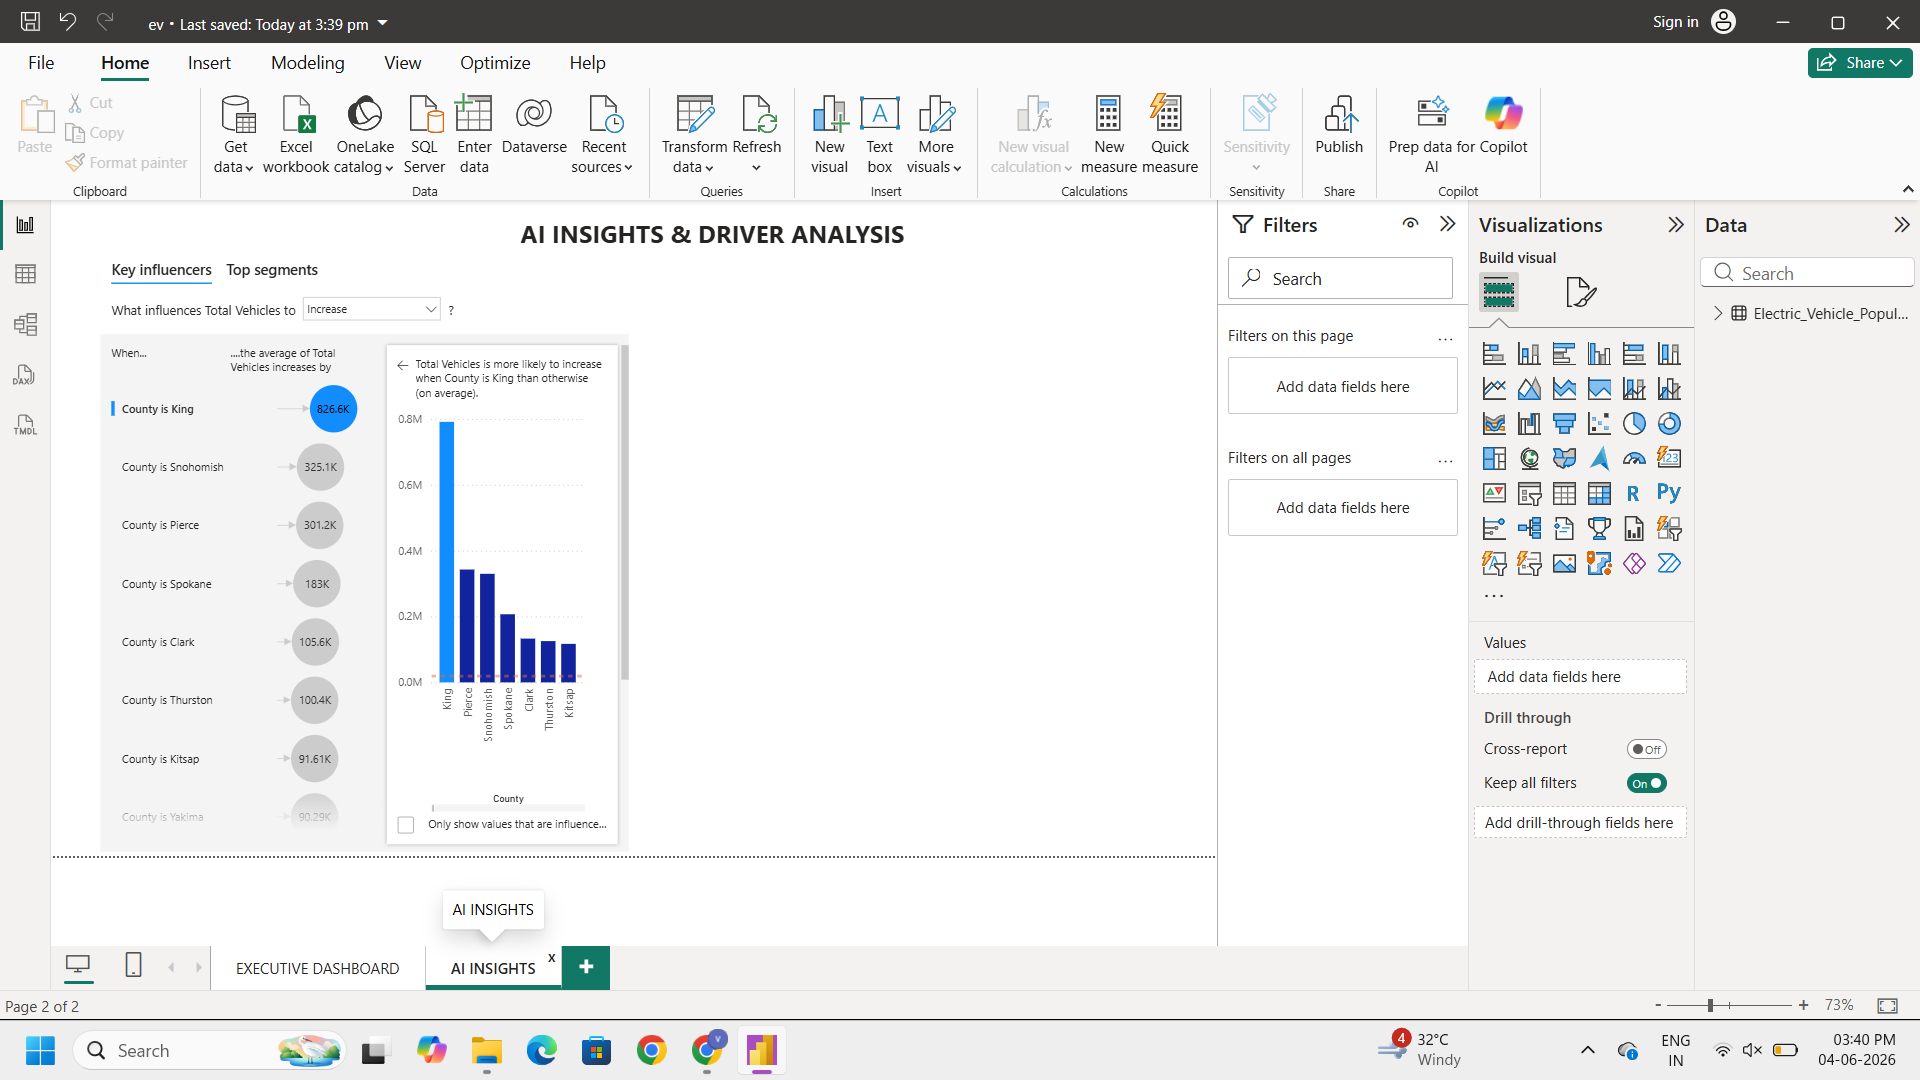

This screenshot's page, from the dashboard's own definition file:
{"tool":"powerbi","page":{"name":"AI INSIGHTS","canvas":[1280,720],"ordinal":1},"visuals":[{"type":"keyDriversVisual","fields":{"Target":["Electric_Vehicle_Population_Size_History_By_County_.Total Vehicles"],"ExplainBy":["Electric_Vehicle_Population_Size_History_By_County_.State","Electric_Vehicle_Population_Size_History_By_County_.County","Sum(Electric_Vehicle_Population_Size_History_By_County_.Percent Electric Vehicles)"]},"box":[50,52,590,668],"z":0},{"type":"decompositionTreeVisual","fields":{"Analyze":["Sum(Electric_Vehicle_Population_Size_History_By_County_.Total Vehicles)"],"ExplainBy":["Electric_Vehicle_Population_Size_History_By_County_.State","Electric_Vehicle_Population_Size_History_By_County_.County"]},"box":[640,136,386,148],"z":1000},{"type":"textbox","box":[510,14,546,122],"z":2000}]}

Visuals, with their boxes on the page's 1280x720 design canvas (x1, y1, x2, y2). These are canvas units, not pixel positions in the 1920x1080 screenshot, which may show the page scaled, cropped or inside an application window:
keyDriversVisual - Electric_Vehicle_Population_Size_History_By_County_.Total Vehicles x Electric_Vehicle_Population_Size_History_By_County_.State: 50, 52, 640, 720
decompositionTreeVisual - Sum(Electric_Vehicle_Population_Size_History_By_County_.Total Vehicles) x Electric_Vehicle_Population_Size_History_By_County_.State: 640, 136, 1026, 284
textbox: 510, 14, 1056, 136
